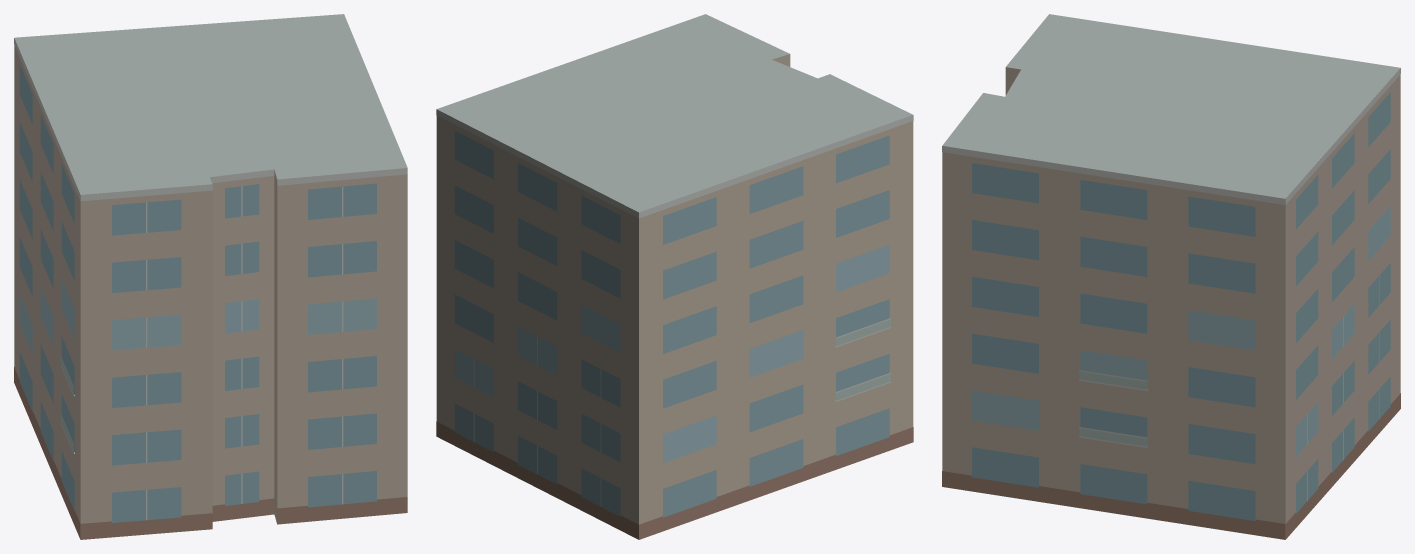
File: survey-upis-32851042.glb
3 views of the same model, side by side, from view 1: azimuth 30°, elevation 25°; view 2: azimuth 150°, elevation 25°; view 3: azimuth 270°, elevation 25° (orthographic). The views are drawn at different scales.
Visible parts, largest first — view 1: survey-upis-32851042.tmp; view 2: survey-upis-32851042.tmp; view 3: survey-upis-32851042.tmp.
Boxes of the visible parts, <box> form: survey-upis-32851042.tmp: <box>14,14,407,539</box>; survey-upis-32851042.tmp: <box>436,14,913,539</box>; survey-upis-32851042.tmp: <box>942,14,1400,539</box>.
Bounding box in the file's own units: 15.41 × 13.25 × 16.16.
